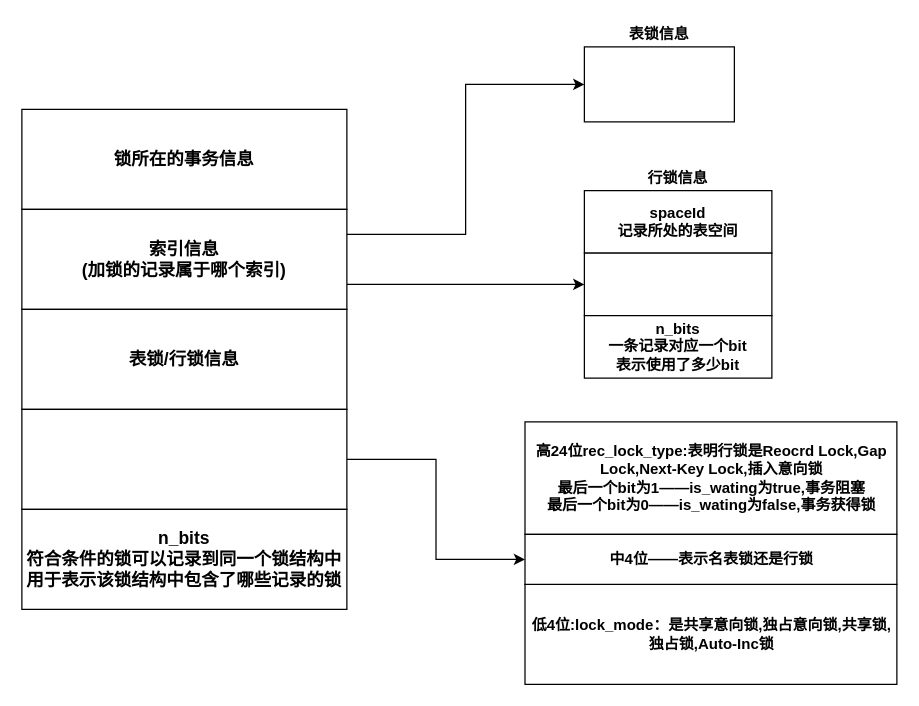
Image size: 919x706. Some labels were removed from this diagram. Each missing label, with the centre of its shape:
"page number 记录所在的页号" belongs at [677,284].
"type_mode (32位 24+4+4)" belongs at [184,458].
"对哪个表加的锁" belongs at [658,84].
